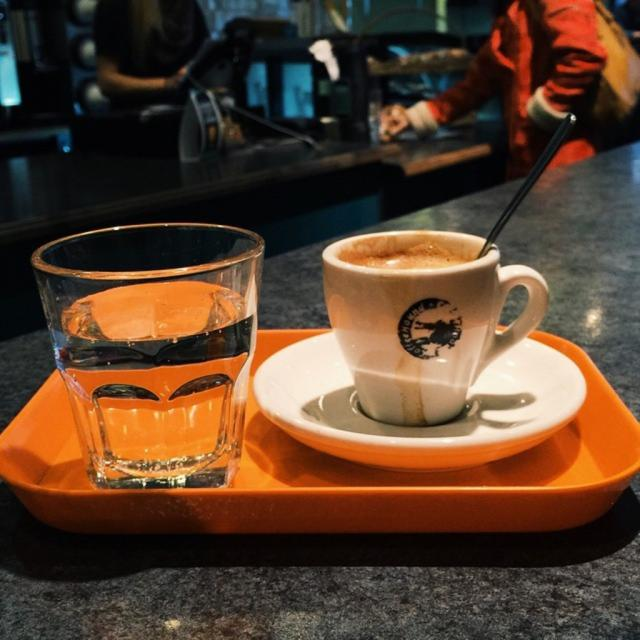Coffee: (332, 212, 551, 410)
